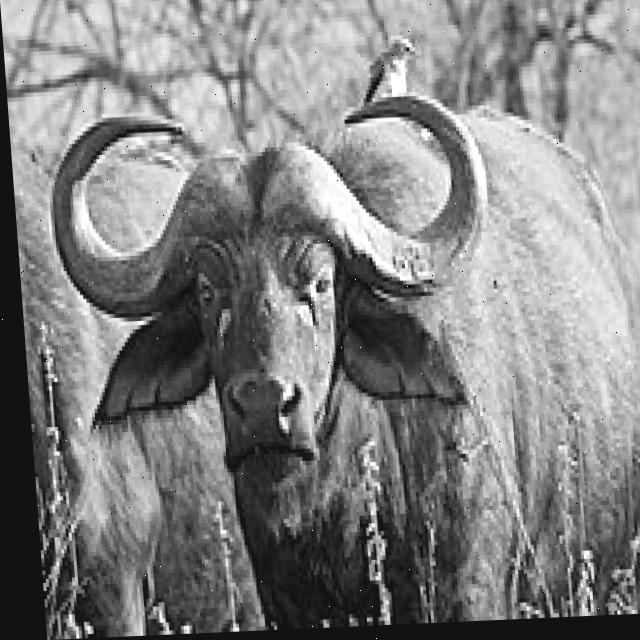Buffalo: (43, 86, 640, 638)
